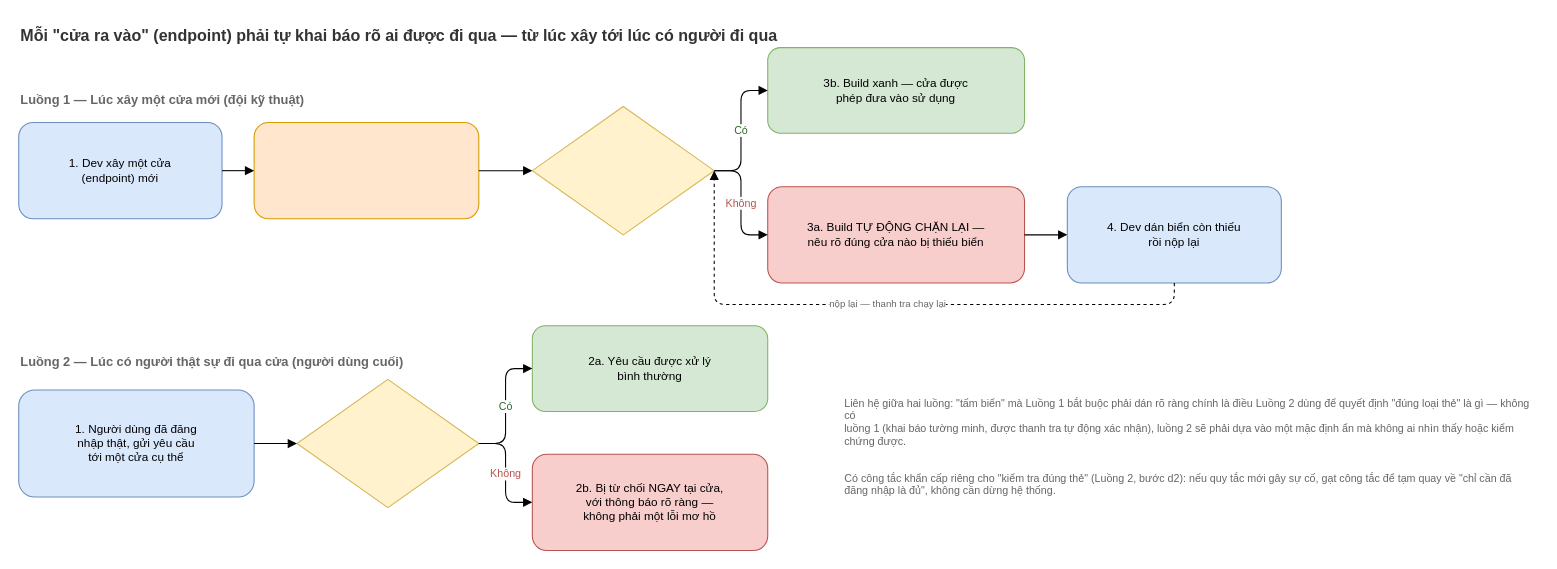
This 1557x569 diagram has some shape labels left out. The centre of each missing label's shape, as x and y in pixels:
2. Vô tình quên dán biển "ai được đi qua cửa này": the point at 366,170
Người này có đúng loại "thẻ" cửa này yêu cầu không?: the point at 387,443
Thanh tra tự động (build) kiểm tra: đã dán biển chưa?: the point at 622,170
